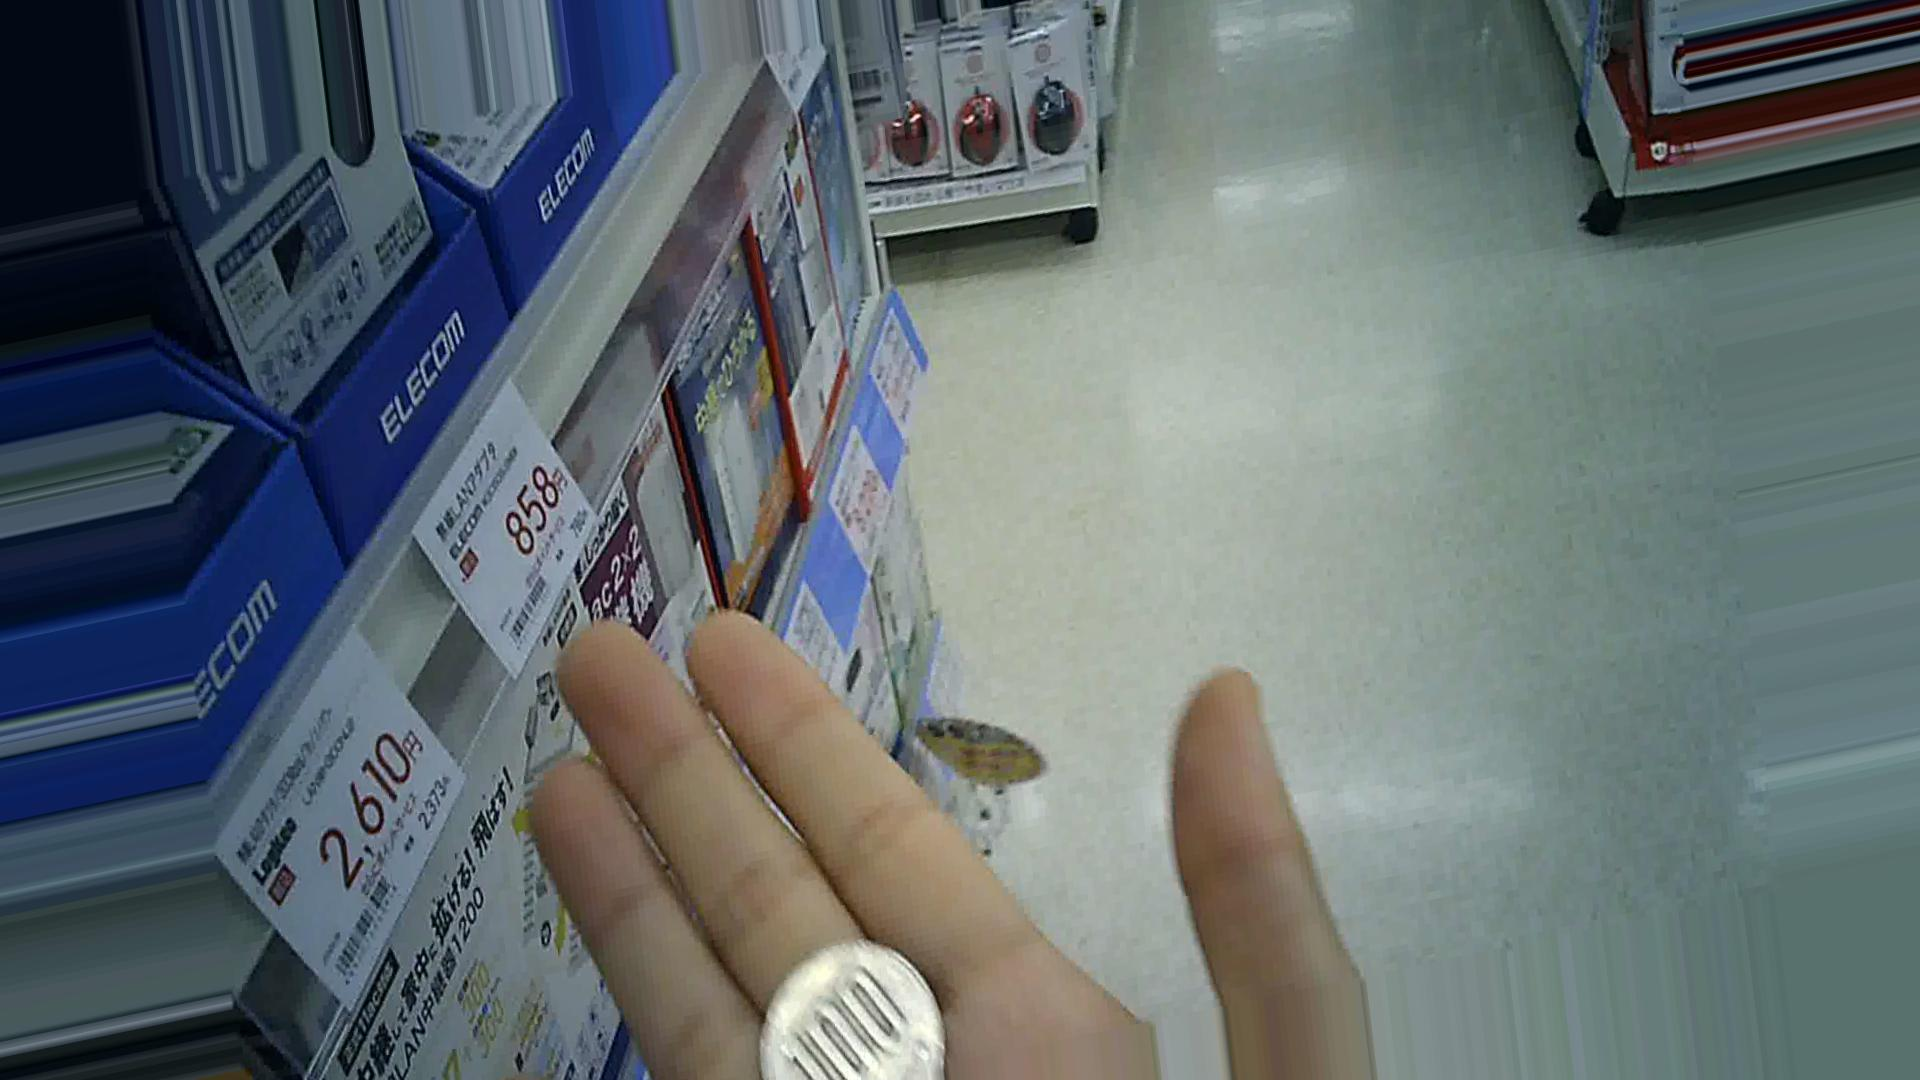100 Yen: (738, 926, 942, 1079)
